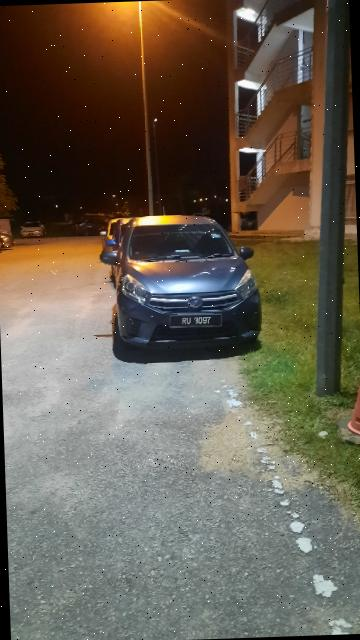License_Plate: (167, 309, 230, 334)
car: (98, 210, 266, 356)
